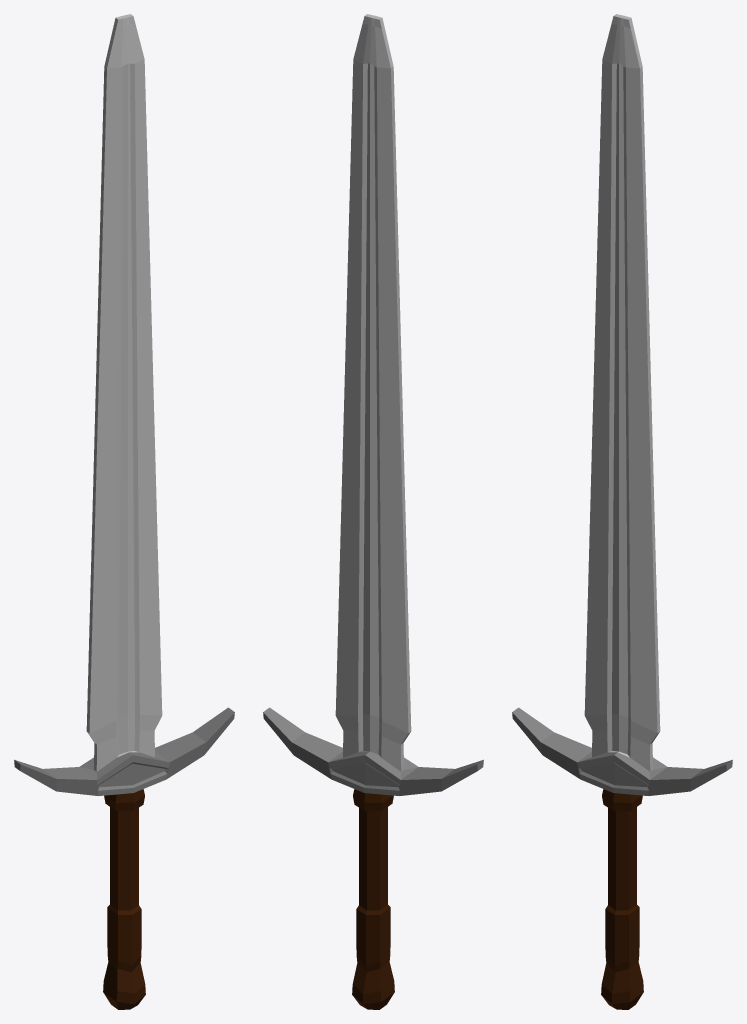
File: sword.fbx
3 renders of one model, left to right at view 1: azimuth 30°, elevation 25°; view 2: azimuth 150°, elevation 25°; view 3: azimuth 330°, elevation 25°, orthographic.
Parts seen in each view (by area): view 1: 1 handed sword; view 2: 1 handed sword; view 3: 1 handed sword.
Boxes of the visible parts, x1,y1,x2,y2 form: 1 handed sword: (14, 14, 234, 1009); 1 handed sword: (263, 14, 483, 1009); 1 handed sword: (512, 14, 732, 1009).
Size of the model in its own units: 29.81 by 131 by 5.05.
